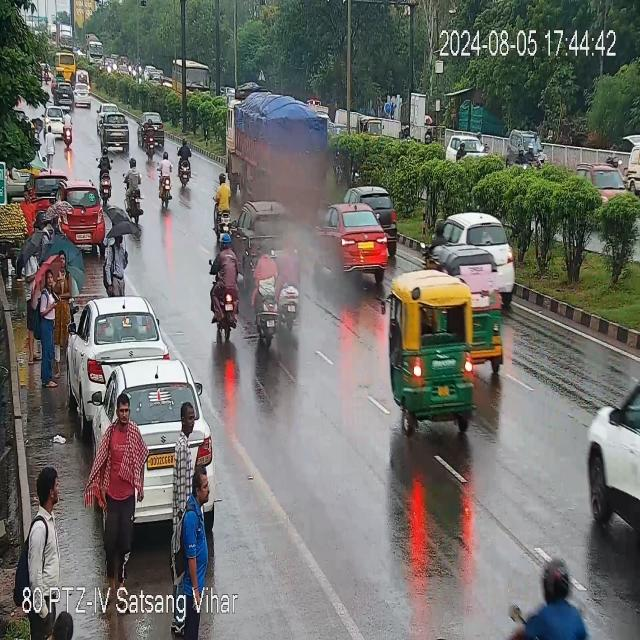2-wheelers: (511, 558, 594, 640), (248, 243, 282, 354), (214, 235, 246, 338), (274, 248, 300, 324), (174, 131, 202, 190), (92, 153, 123, 200), (127, 151, 144, 225), (213, 173, 232, 236), (516, 135, 543, 169), (158, 149, 172, 210), (63, 109, 74, 150), (144, 123, 155, 163)
auto: (383, 266, 480, 442), (463, 242, 503, 367), (350, 114, 382, 140)
car: (71, 297, 167, 402), (586, 368, 640, 536), (106, 360, 204, 444), (427, 214, 517, 304), (326, 182, 400, 290), (244, 191, 297, 260), (59, 188, 108, 246), (508, 127, 546, 170), (96, 100, 130, 147), (37, 168, 74, 202), (46, 103, 64, 139), (153, 112, 167, 144)
pedestrian: (105, 388, 141, 570), (173, 400, 204, 513), (28, 470, 64, 560), (184, 467, 213, 574), (56, 245, 72, 352), (41, 268, 55, 387), (24, 244, 39, 351), (107, 236, 129, 296), (32, 212, 50, 246), (22, 183, 32, 232), (46, 125, 55, 166)
truck: (229, 86, 332, 194)
